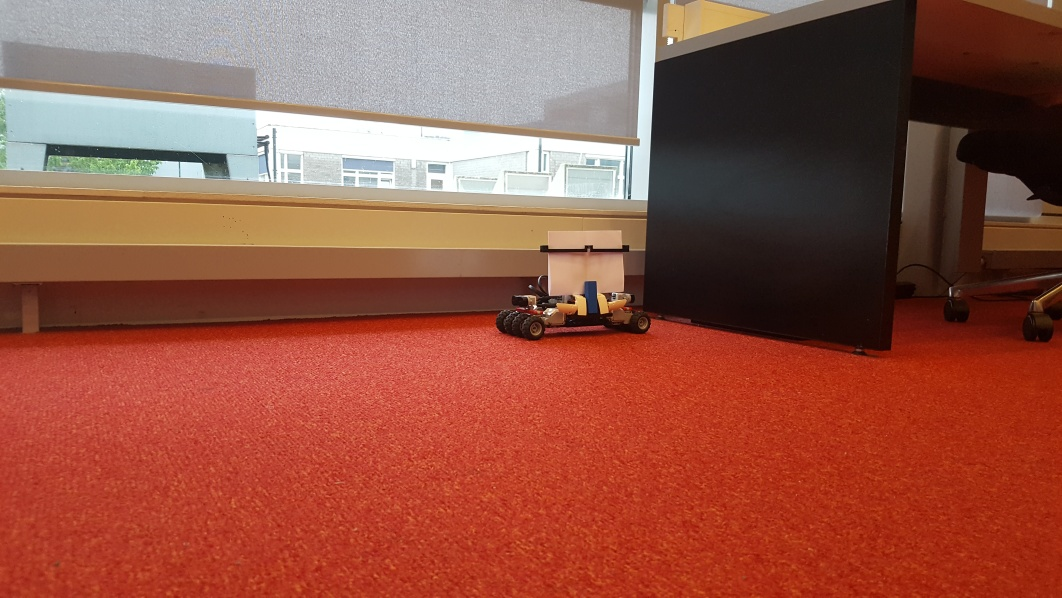car: (498, 230, 653, 338)
